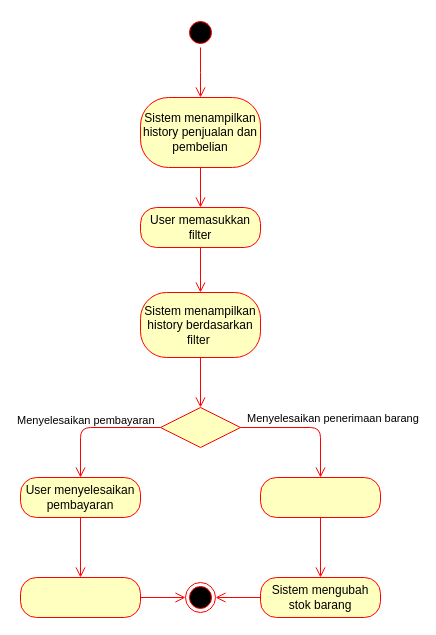
The diagram is 436 pixels wide and 635 high, and some of its shapes have lost their labels. The shapes that lost their labels are listed below. From the top down, each one's box as (x1, y1, x2, y2) in pixels, then its label:
(160, 406, 240, 448): Condition
(260, 476, 380, 518): User menyelesaikan penerimaan barang
(20, 576, 140, 618): Sistem menyimpan data keuangan
